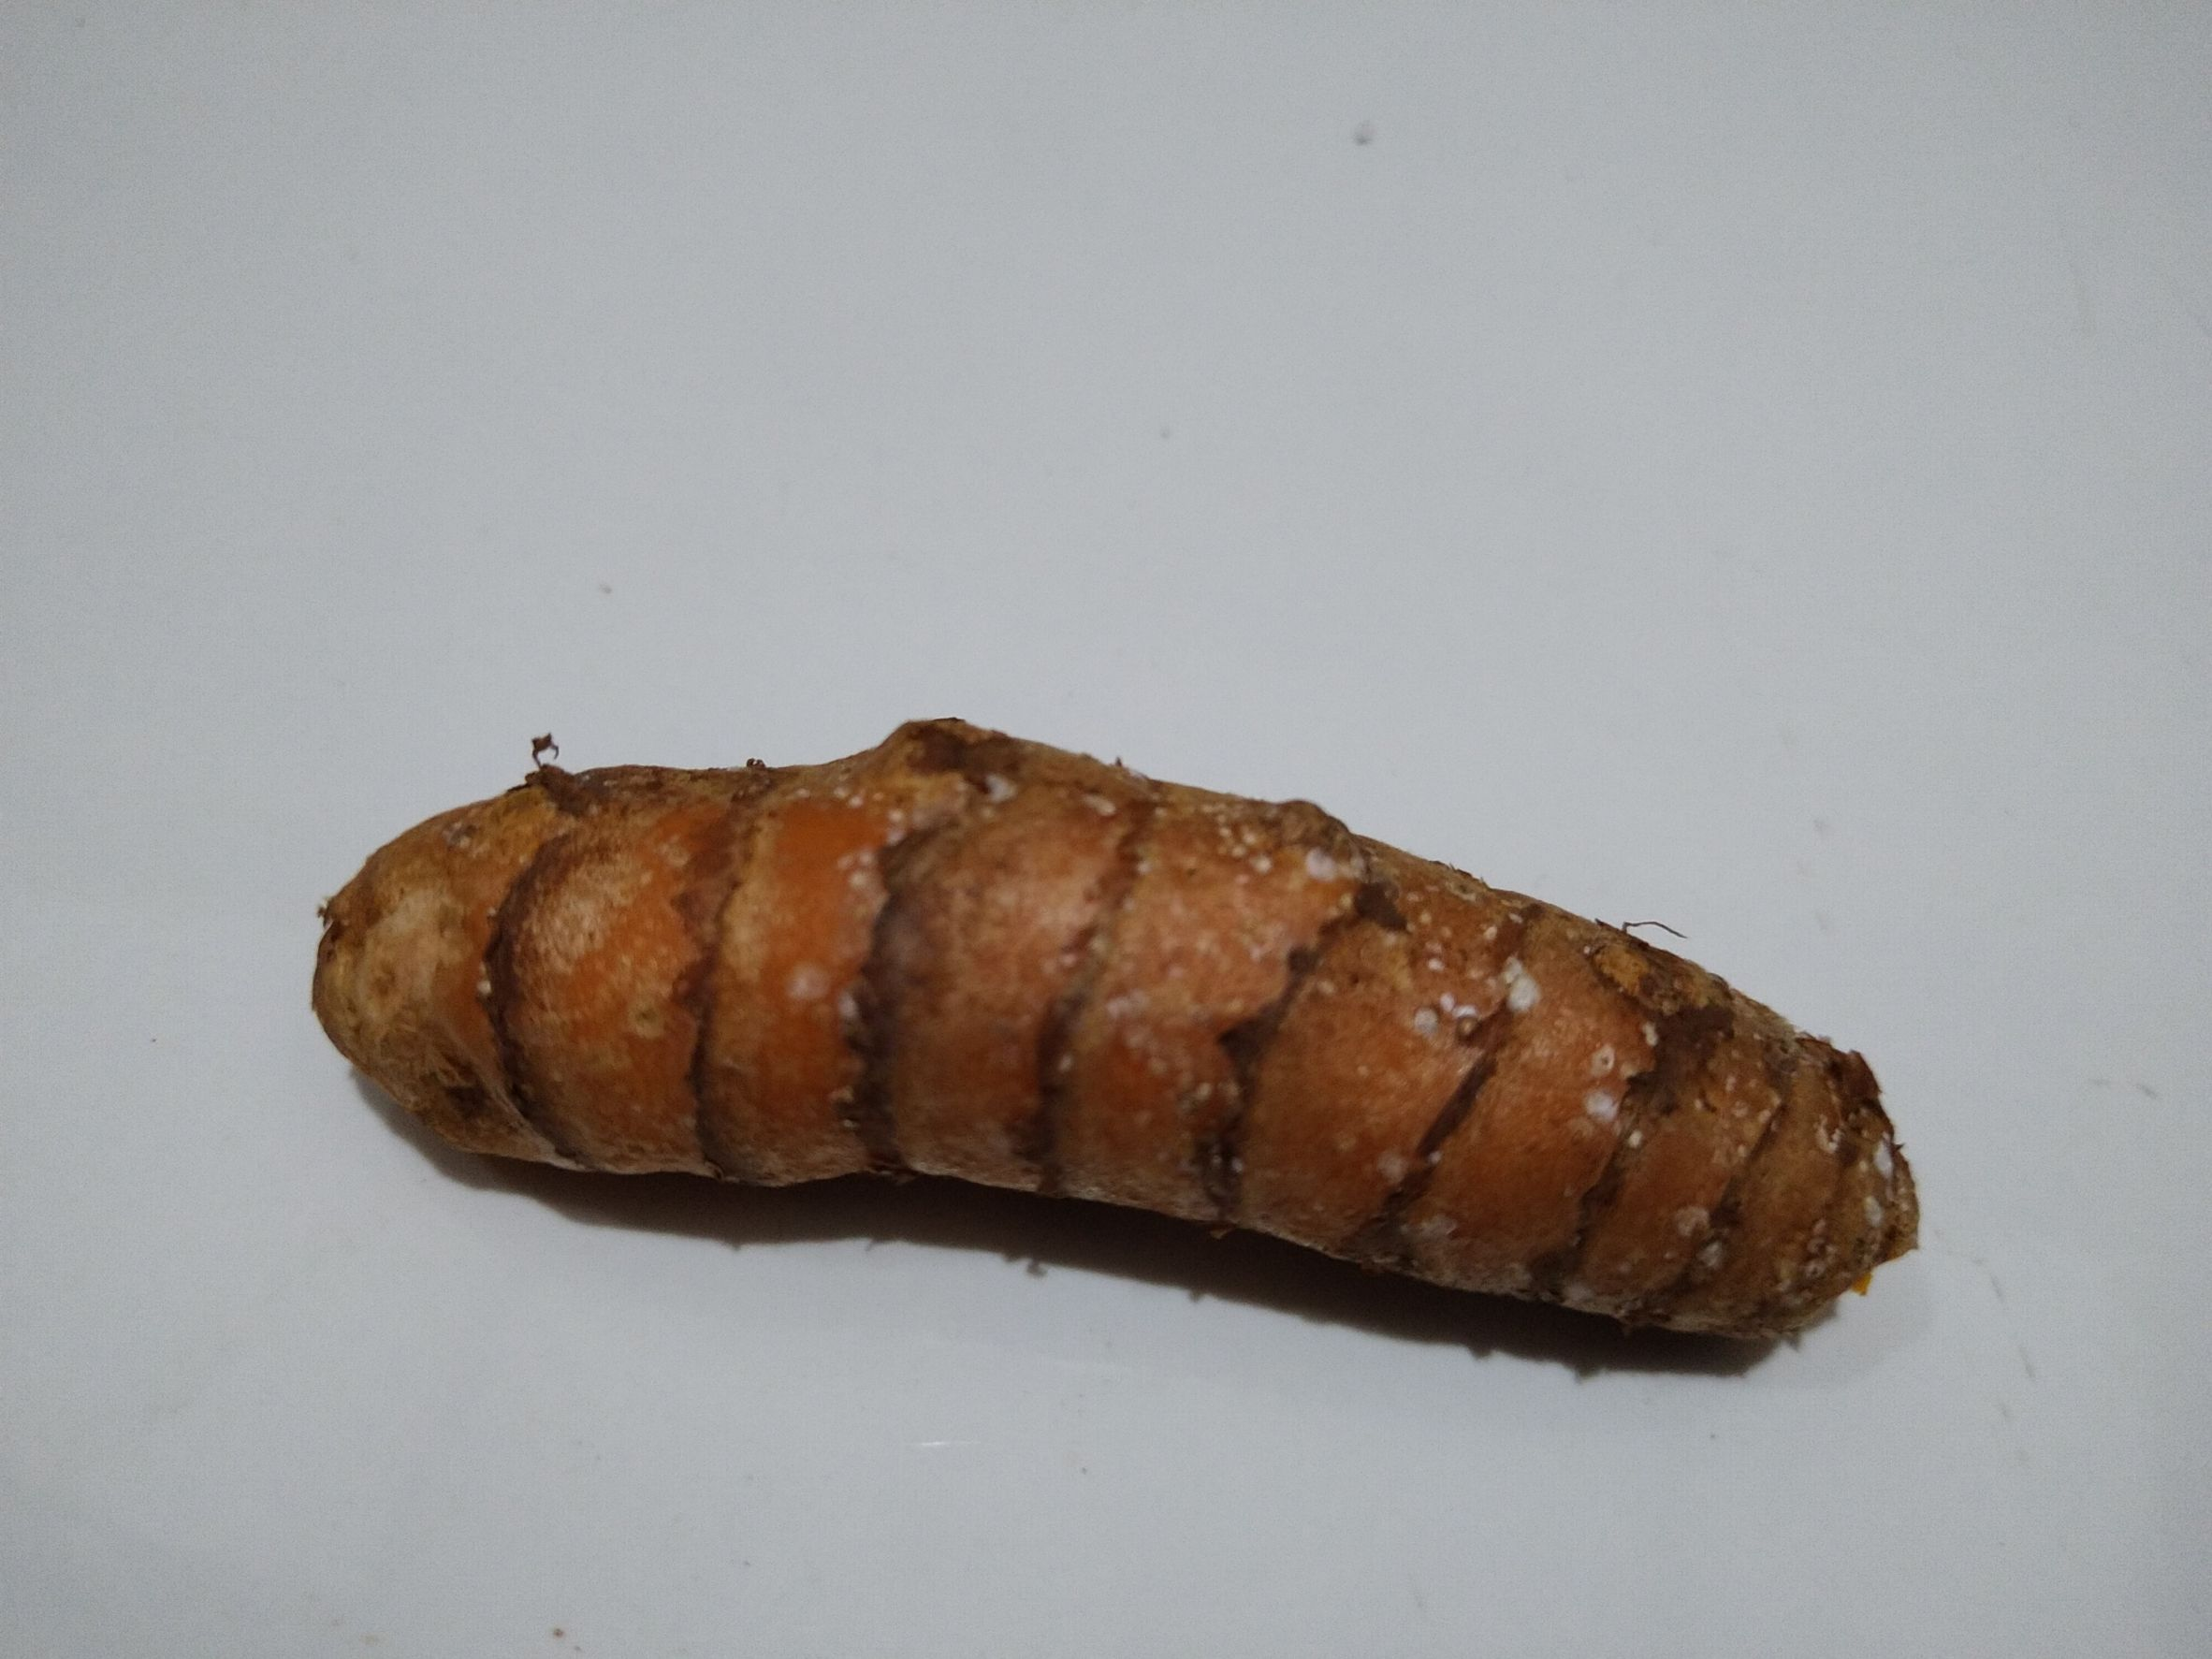Kunyit: (314, 727, 1925, 1392)
